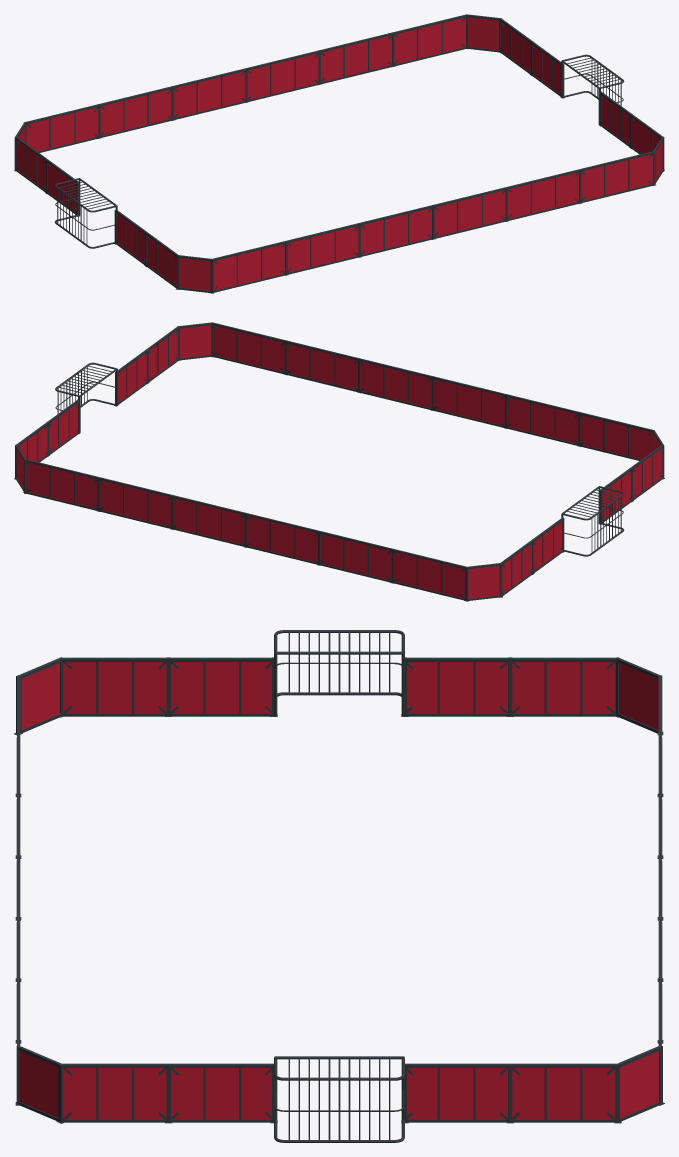
File: street15-r2.glb
3 renders of one model, top to bottom at view 1: azimuth 30°, elevation 25°; view 2: azimuth 150°, elevation 25°; view 3: azimuth 270°, elevation 25°, orthographic. The views are drawn at different scales.
Parts seen in each view (by area): view 1: Panel bandy 45, Panel bandy 138, Panel bandy 10, Panel bandy 110, Panel bandy 145, Panel bandy 124, Panel bandy 17, Panel bandy 131, Panel bandy 31, Panel bandy 117, Panel bandy 38, Panel bandy 24 (+10 smaller); view 2: Panel bandy 45, Panel bandy 31, Panel bandy 124, Panel bandy 138, Panel bandy 145, Panel bandy 117, Panel bandy 131, Panel bandy 38, Panel bandy 17, Panel bandy 110, Panel bandy 24, Panel bandy 10 (+10 smaller); view 3: Panel bandy 65, Panel bandy 90, Panel bandy 190, Panel bandy 165, Panel bandy 72, Panel bandy 83, Panel bandy 183, Panel bandy 172, Panel bandy 156, Panel bandy 101, Panel bandy 56, Panel bandy 1.
Boxes of the visible parts, left/top/right/bottom form: Panel bandy 45: left=581, top=154, right=652, bottom=200; Panel bandy 138: left=100, top=89, right=171, bottom=135; Panel bandy 10: left=213, top=244, right=284, bottom=290; Panel bandy 110: left=394, top=17, right=465, bottom=63; Panel bandy 145: left=26, top=107, right=98, bottom=151; Panel bandy 124: left=247, top=53, right=318, bottom=99; Panel bandy 17: left=287, top=226, right=358, bottom=272; Panel bandy 131: left=174, top=71, right=245, bottom=117; Panel bandy 31: left=434, top=190, right=505, bottom=236; Panel bandy 117: left=321, top=35, right=391, bottom=81; Panel bandy 38: left=508, top=172, right=578, bottom=218; Panel bandy 24: left=361, top=208, right=431, bottom=254; Panel bandy 45: left=213, top=325, right=284, bottom=371; Panel bandy 31: left=360, top=361, right=431, bottom=407; Panel bandy 124: left=173, top=498, right=244, bottom=544; Panel bandy 138: left=320, top=534, right=391, bottom=580; Panel bandy 145: left=394, top=552, right=465, bottom=598; Panel bandy 117: left=100, top=480, right=171, bottom=526; Panel bandy 131: left=247, top=516, right=317, bottom=562; Panel bandy 38: left=287, top=343, right=357, bottom=389; Panel bandy 17: left=507, top=397, right=578, bottom=443; Panel bandy 110: left=26, top=462, right=97, bottom=508; Panel bandy 24: left=434, top=379, right=504, bottom=425; Panel bandy 10: left=580, top=415, right=652, bottom=459; Panel bandy 65: left=63, top=1068, right=166, bottom=1119; Panel bandy 90: left=512, top=1068, right=615, bottom=1119; Panel bandy 190: left=512, top=662, right=615, bottom=712; Panel bandy 165: left=63, top=662, right=166, bottom=712; Panel bandy 72: left=171, top=1068, right=271, bottom=1119; Panel bandy 83: left=407, top=1068, right=507, bottom=1119; Panel bandy 183: left=407, top=662, right=507, bottom=712; Panel bandy 172: left=171, top=662, right=271, bottom=712; Panel bandy 156: left=619, top=663, right=658, bottom=730; Panel bandy 101: left=620, top=1051, right=659, bottom=1118; Panel bandy 56: left=19, top=1051, right=58, bottom=1117; Panel bandy 1: left=21, top=663, right=59, bottom=729.
Size of the model in its own units: 16.65 by 1.13 by 10.2.
